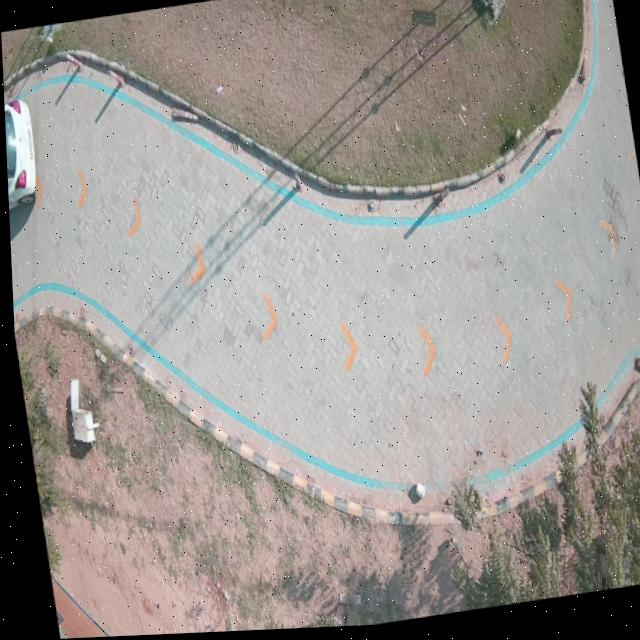car: (4, 100, 34, 210)
